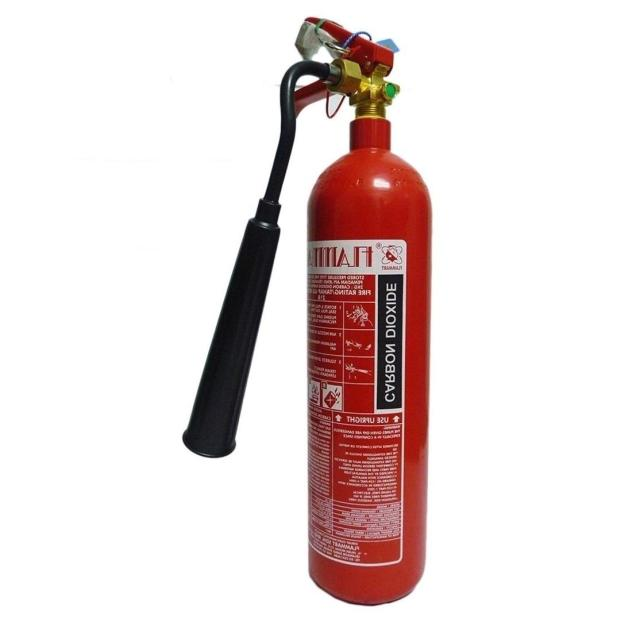fire_extinguisher: (176, 14, 437, 610)
